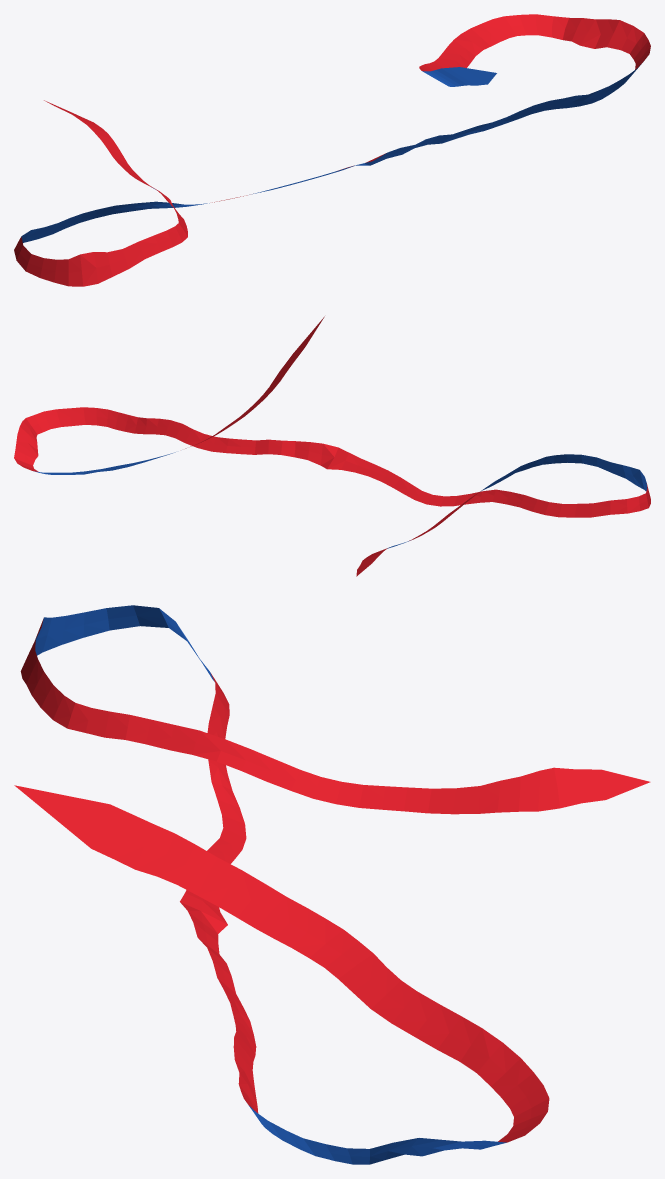
3 views of the same model, one above another, from view 1: azimuth 30°, elevation 25°; view 2: azimuth 150°, elevation 25°; view 3: azimuth 270°, elevation 25° (orthographic). The views are drawn at different scales.
Visible parts, largest first — view 1: 425_back; view 2: 425_back; view 3: 425_back.
Boxes of the visible parts, x1,y1,x2,y2 form: 425_back: (14,14,650,286); 425_back: (14,316,650,576); 425_back: (14,605,650,1164).
Size of the model in its own units: 2.31 by 0.4214 by 1.18.
